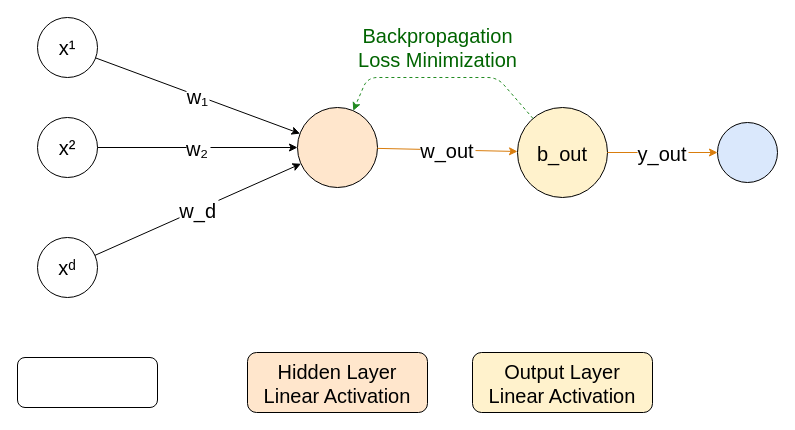
This 795x430 diagram has some shape labels left out. The centre of each missing label's shape, as x and y in pixels:
bₕ: point 337,147
Input Layer: point 87,382
ŷ: point 747,152
